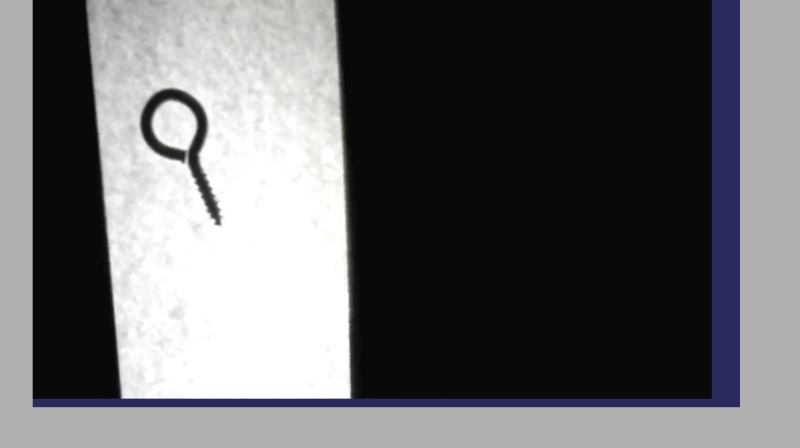O001: (136, 83, 225, 228)
